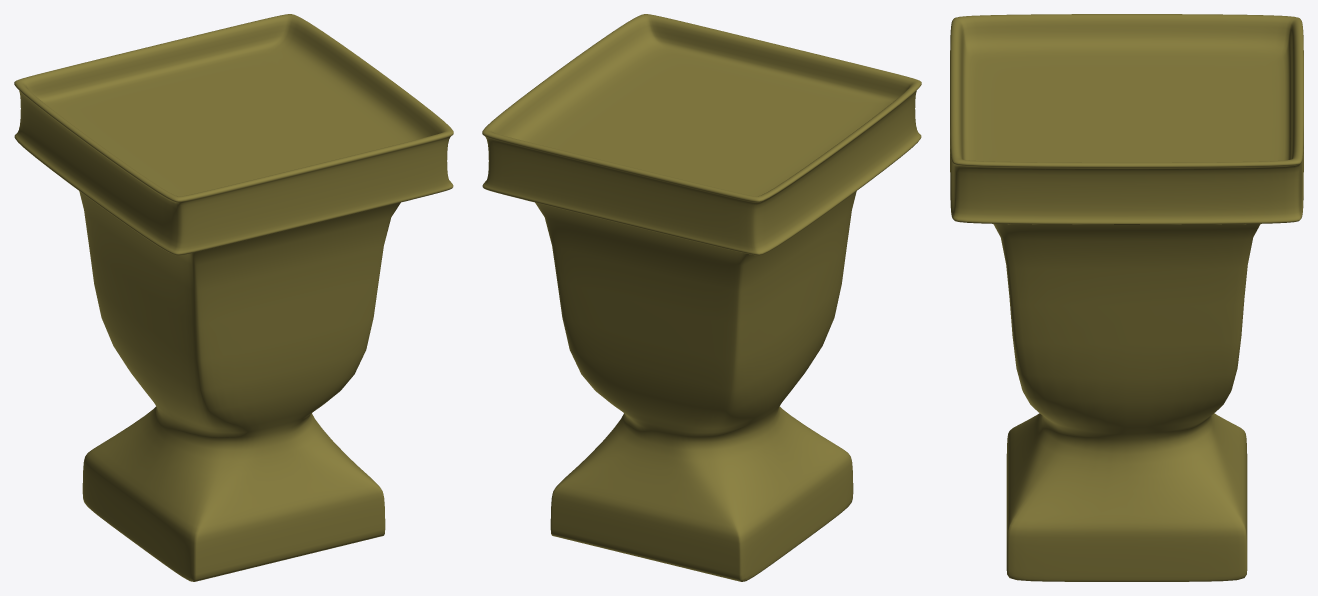
Rendered from Stand.fbx.
3 renders of one model, left to right at view 1: azimuth 30°, elevation 25°; view 2: azimuth 150°, elevation 25°; view 3: azimuth 270°, elevation 25°, orthographic. The views are drawn at different scales.
Parts seen in each view (by area): view 1: Stand; view 2: Stand; view 3: Stand.
Boxes of the visible parts, <box> form: Stand: <box>14,14,453,581</box>; Stand: <box>482,14,921,581</box>; Stand: <box>950,14,1303,581</box>.
Size of the model in its own units: 1.92 by 2.62 by 1.89.
